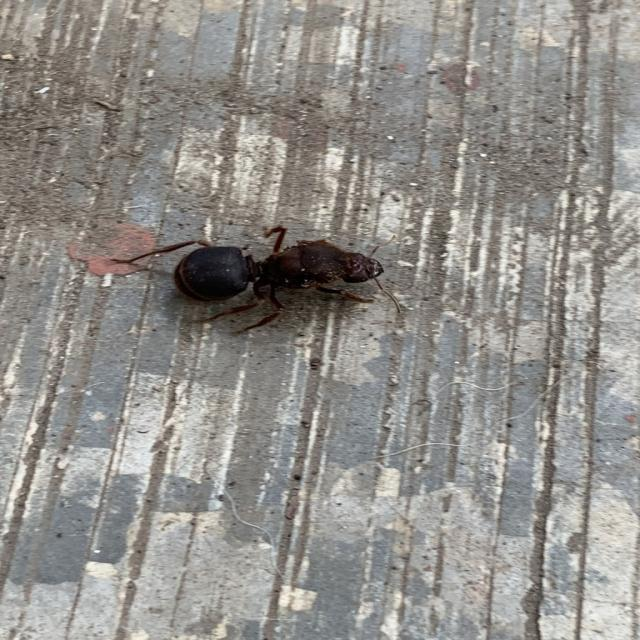Alive-Female-Dealate: (111, 224, 401, 336)
